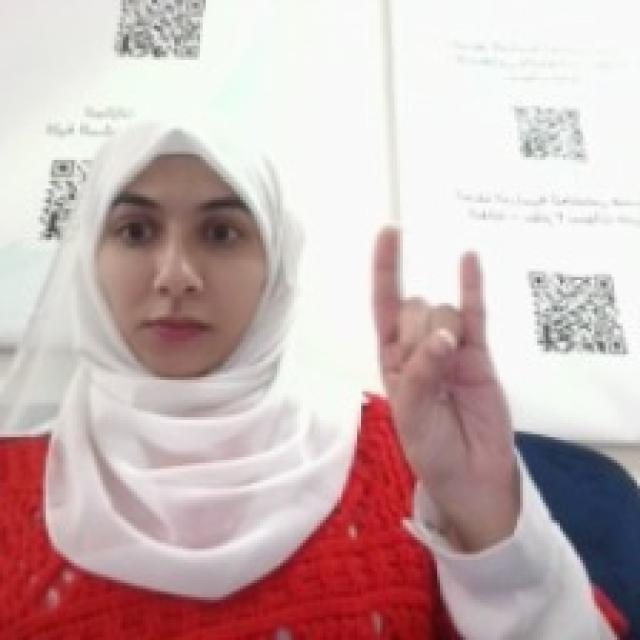No: (363, 217, 514, 486)
